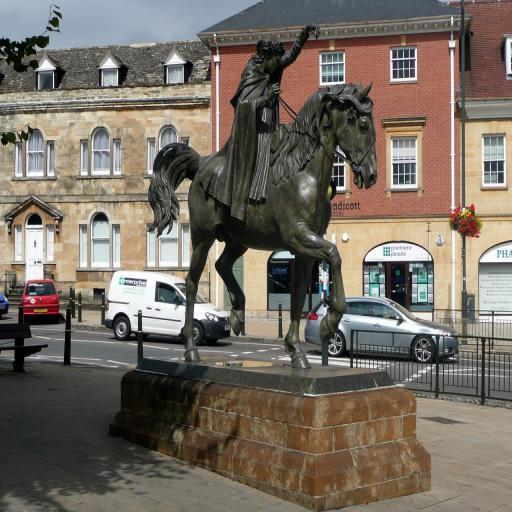horse: (146, 78, 378, 364)
